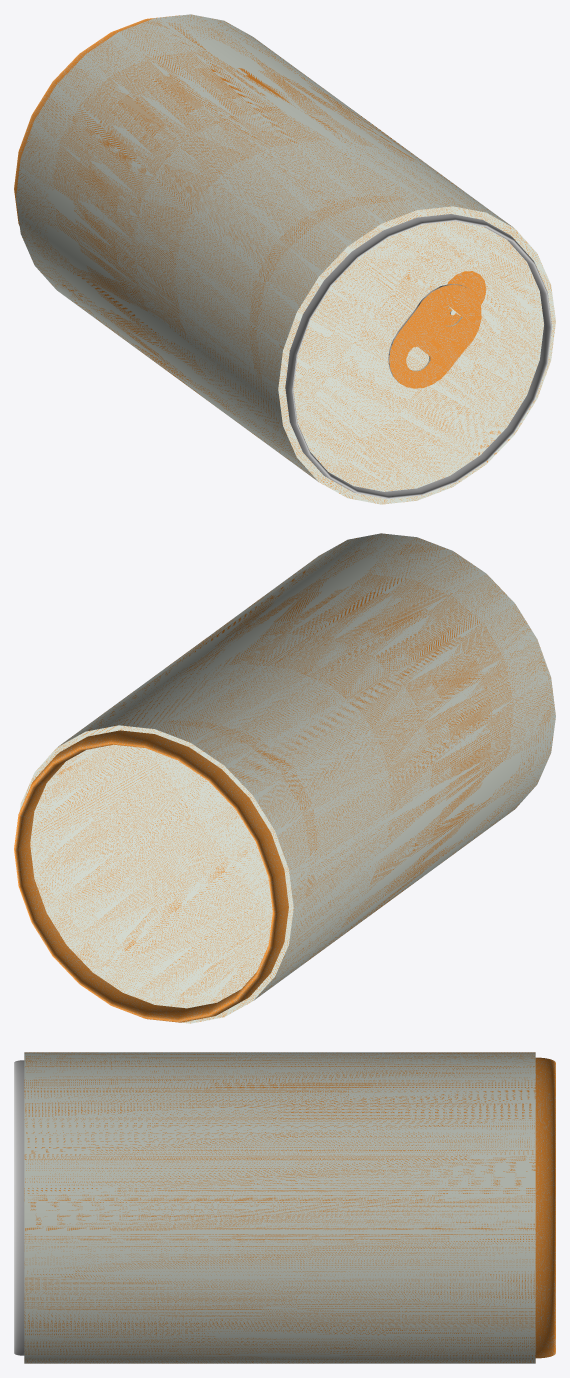
Rendered from model_align.obj.
3 renders of one model, top to bottom at view 1: azimuth 30°, elevation 25°; view 2: azimuth 150°, elevation 25°; view 3: azimuth 270°, elevation 25°, orthographic. The views are drawn at different scales.
Visible parts, largest first — view 1: mesh1_mesh1-geometry, mesh3_mesh3-geometry, mesh4_mesh4-geometry, mesh2_mesh2-geometry; view 2: mesh1_mesh1-geometry, mesh2_mesh2-geometry; view 3: mesh1_mesh1-geometry, mesh2_mesh2-geometry, mesh3_mesh3-geometry.
Part boxes in pixels (x1,y1,x2,y2): mesh1_mesh1-geometry: (16, 14, 555, 504); mesh3_mesh3-geometry: (285, 214, 552, 498); mesh4_mesh4-geometry: (388, 283, 481, 388); mesh2_mesh2-geometry: (14, 15, 179, 225); mesh1_mesh1-geometry: (20, 533, 555, 1023); mesh2_mesh2-geometry: (14, 730, 288, 1022); mesh1_mesh1-geometry: (24, 1052, 535, 1363); mesh2_mesh2-geometry: (535, 1057, 555, 1358); mesh3_mesh3-geometry: (14, 1060, 24, 1355).
Size of the model in its own units: 0.0751 by 0.0751 by 0.1302.
